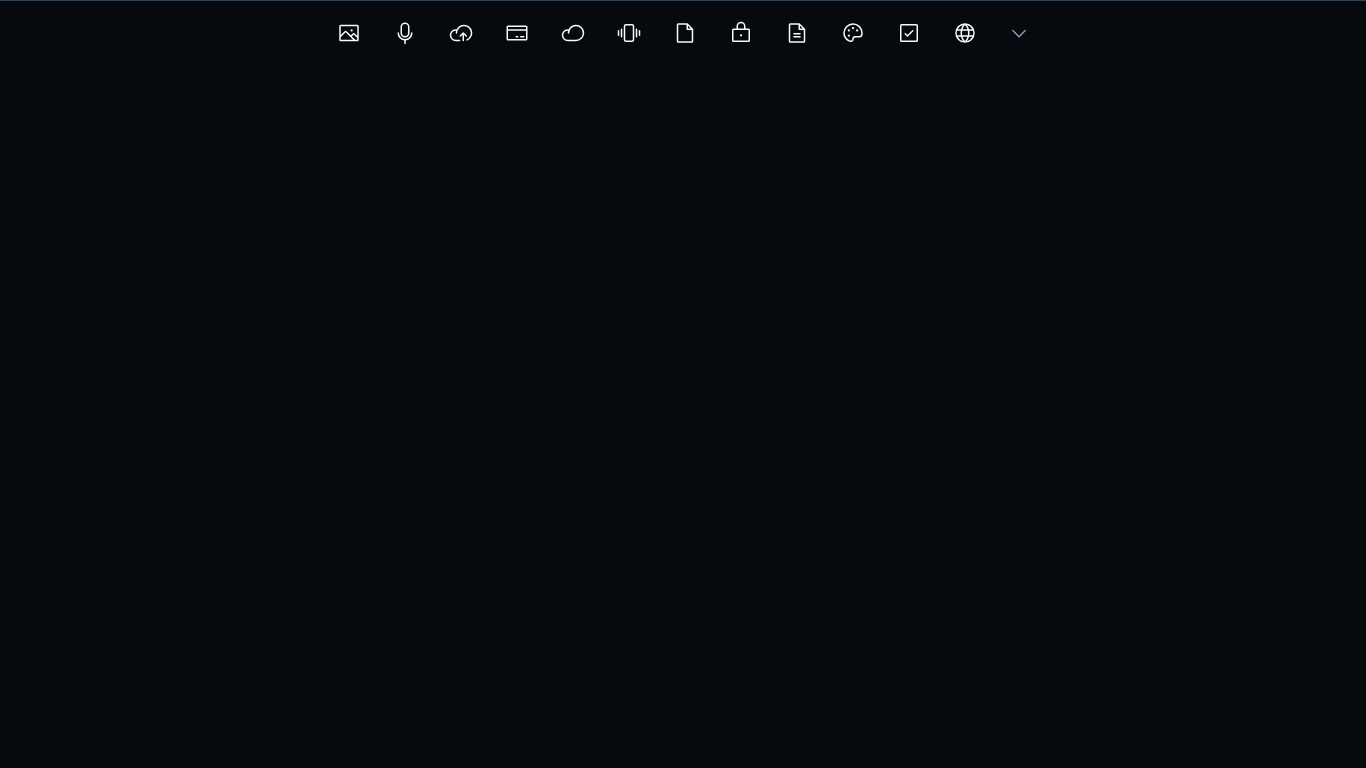
Test: AdvancedToolbar › Panel Opening › should open panel when icon is clicked
This screenshot has width=1366, height=768.
Click the button named "Add Image Upload" at x=349, y=33, box [329,13,369,53]
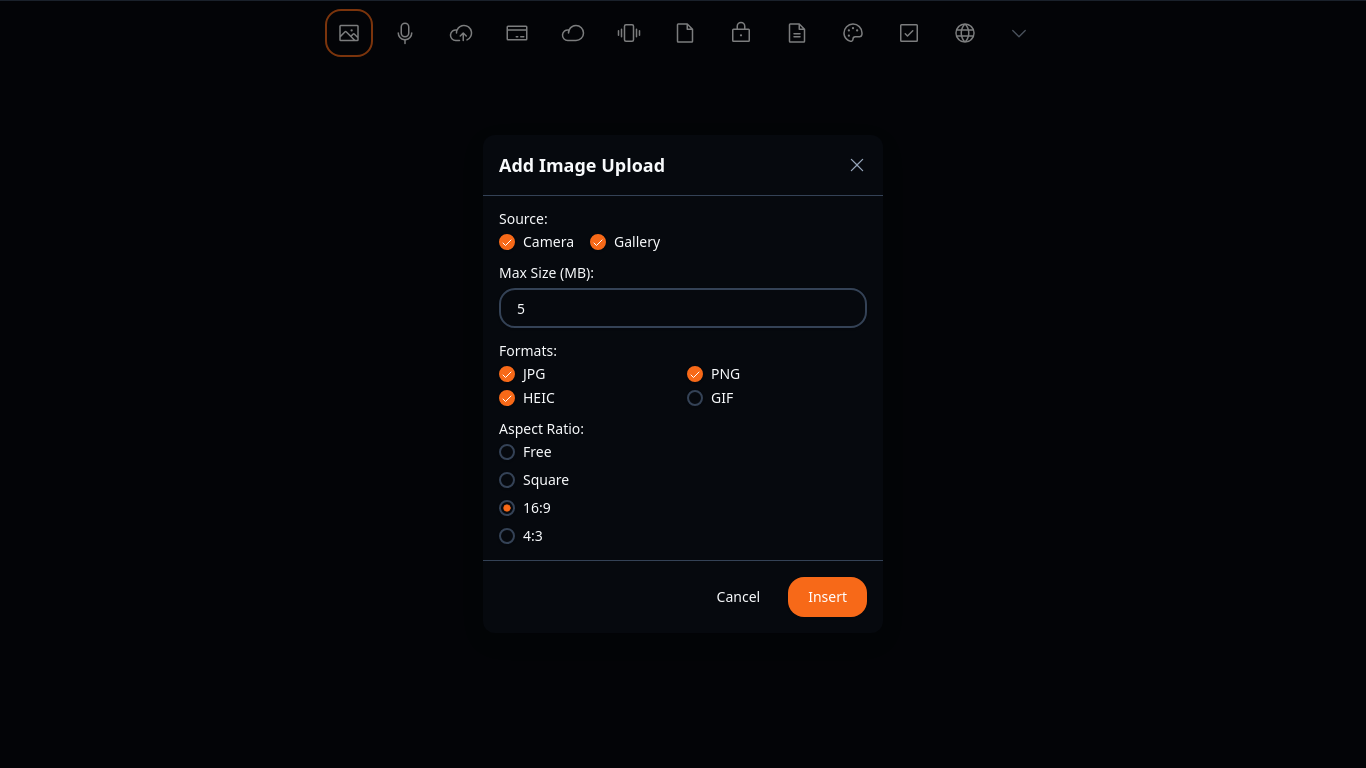
Result: the element with class "inset-0" is shown
